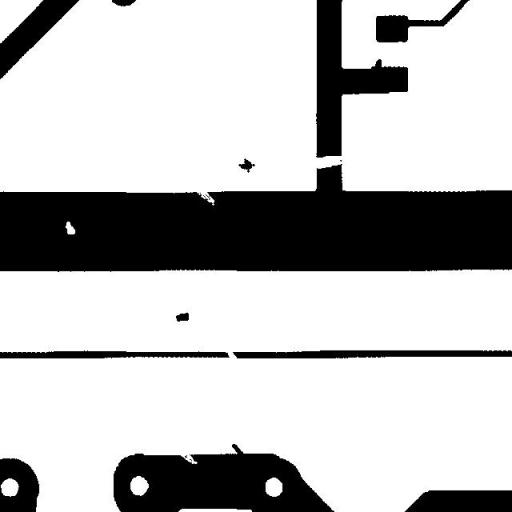copper: (230, 150, 262, 180), (168, 305, 196, 329)
mousebite: (188, 182, 222, 212), (173, 446, 205, 471)
open: (304, 148, 351, 176), (217, 341, 245, 369)
pin-hole: (58, 214, 82, 242)
spur: (363, 51, 389, 79), (224, 436, 250, 462)
